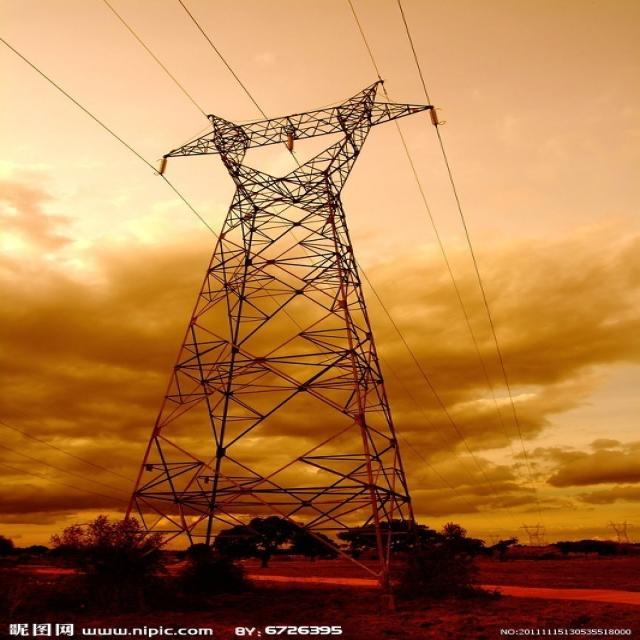non-critical vegetation: (124, 93, 468, 521)
